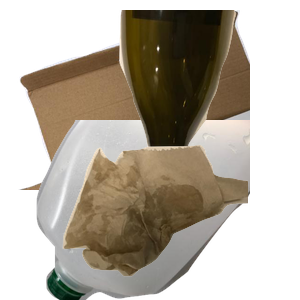cardboard: (16, 10, 256, 190)
glass: (117, 10, 300, 190)
plastic: (34, 120, 274, 300)
trash: (60, 142, 300, 300)
